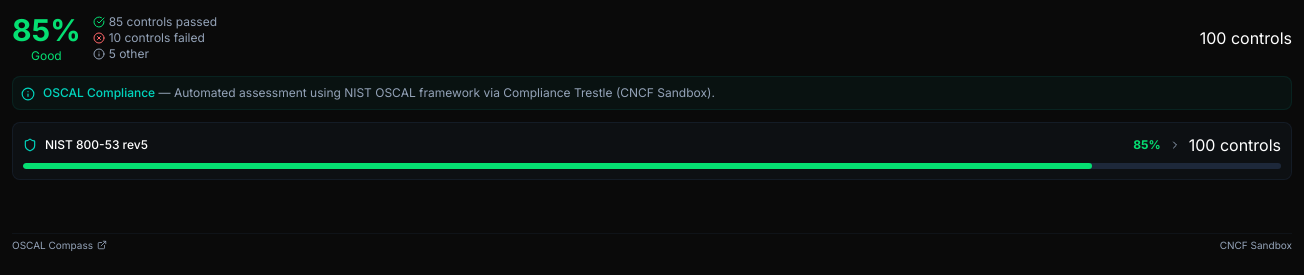
Test case: TrestleScan › profile interaction › clicking a profile row expands details showing pass/fail/other breakdown
Expected: the text "85 pass" is not shown
# Click to expand (use the profile name button)
Click the text "NIST 800-53 rev5". click: {"x": 96, "y": 145}
box: x1=45 y1=137 x2=148 y2=153
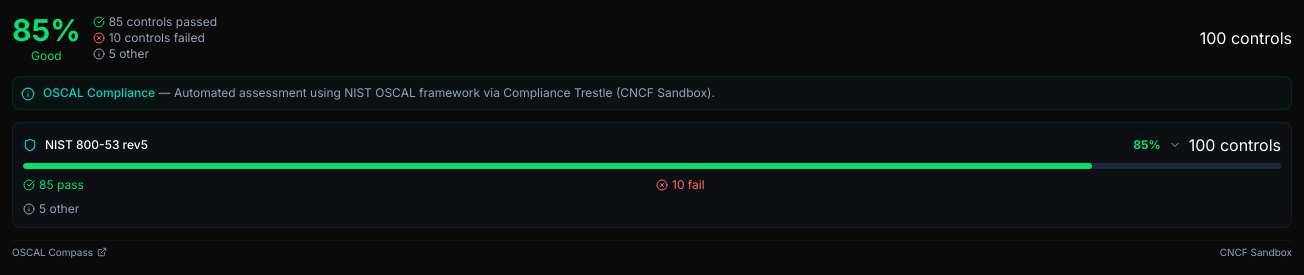
Expected: the text "85 pass" is shown, x1=39 y1=177 x2=84 y2=193
Expected: the text "10 fail" is shown, x1=672 y1=177 x2=705 y2=193
